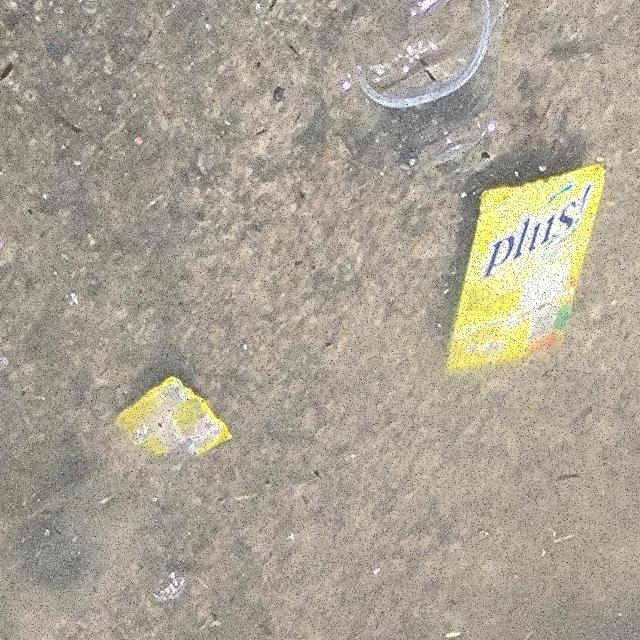plastic_waste: (447, 162, 608, 374), (348, 1, 511, 177), (116, 376, 235, 461)
